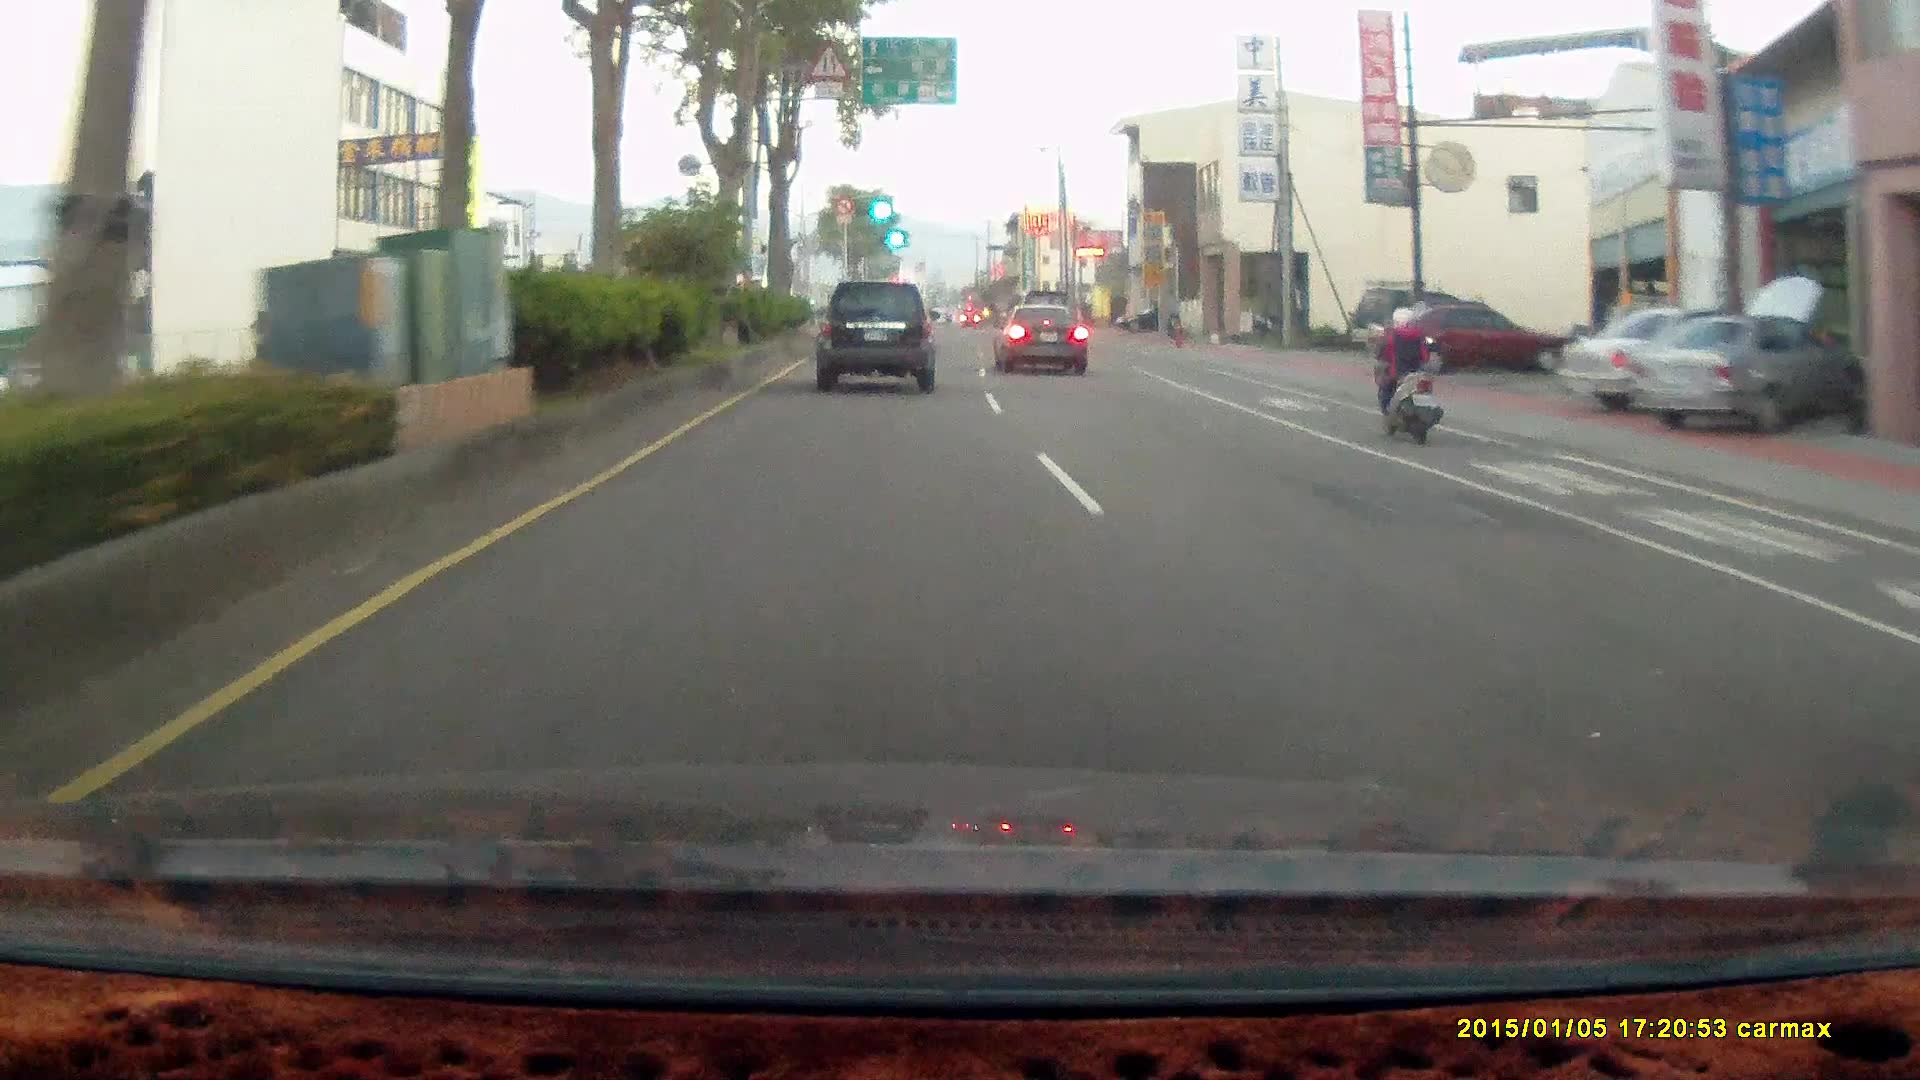rider: (1357, 288, 1458, 454), (1370, 302, 1443, 441)
vehicle: (1633, 306, 1868, 432), (1630, 309, 1863, 434), (1556, 302, 1790, 412), (1373, 296, 1572, 377), (1372, 295, 1572, 374), (812, 273, 942, 389), (814, 279, 937, 393), (1347, 273, 1469, 349), (994, 301, 1091, 376), (993, 300, 1089, 373), (1115, 305, 1179, 332)
